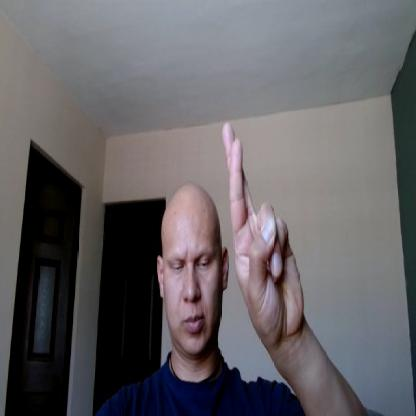R: (223, 119, 305, 340)
